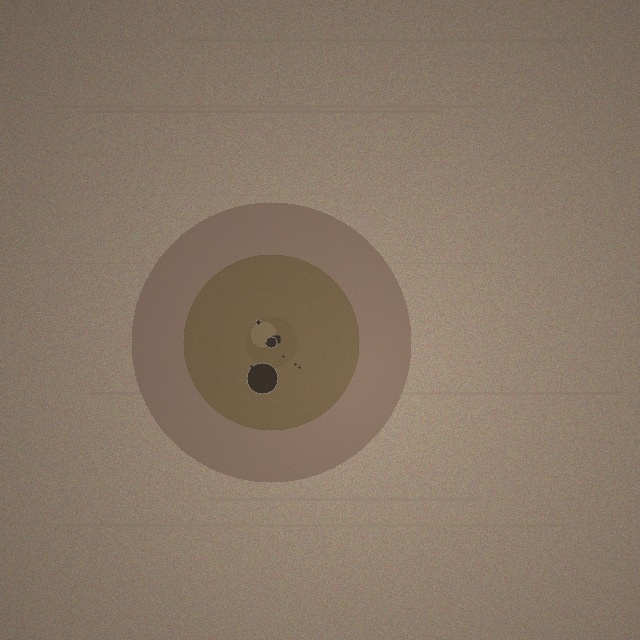shrinkage: (131, 202, 411, 482)
